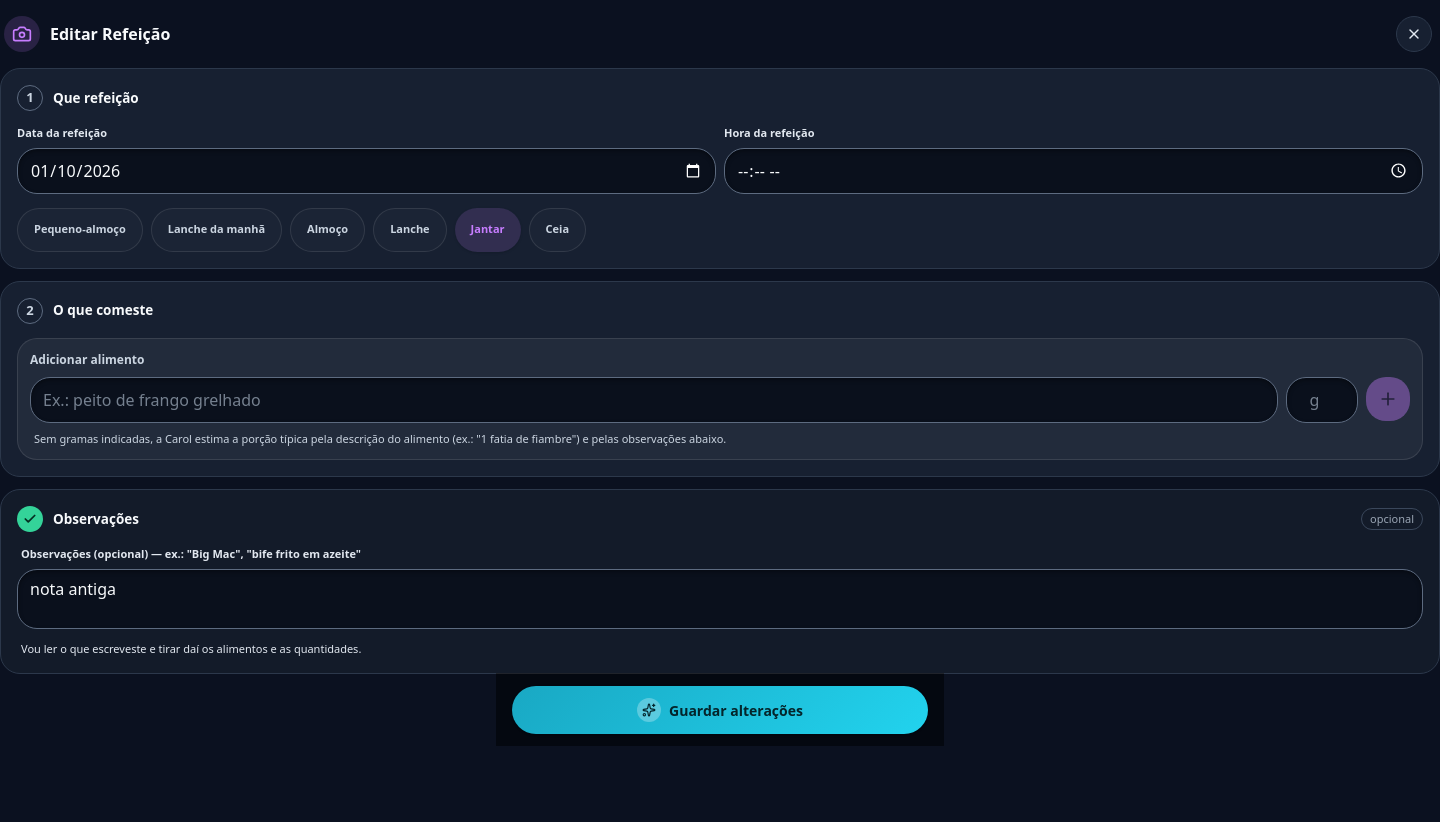
it: MealRegistration — editar refeição existente › sem alimentos e sem observações continua bloqueado
Clear the text box showing "nota antiga" at (720, 599), box [17,568,1423,629]
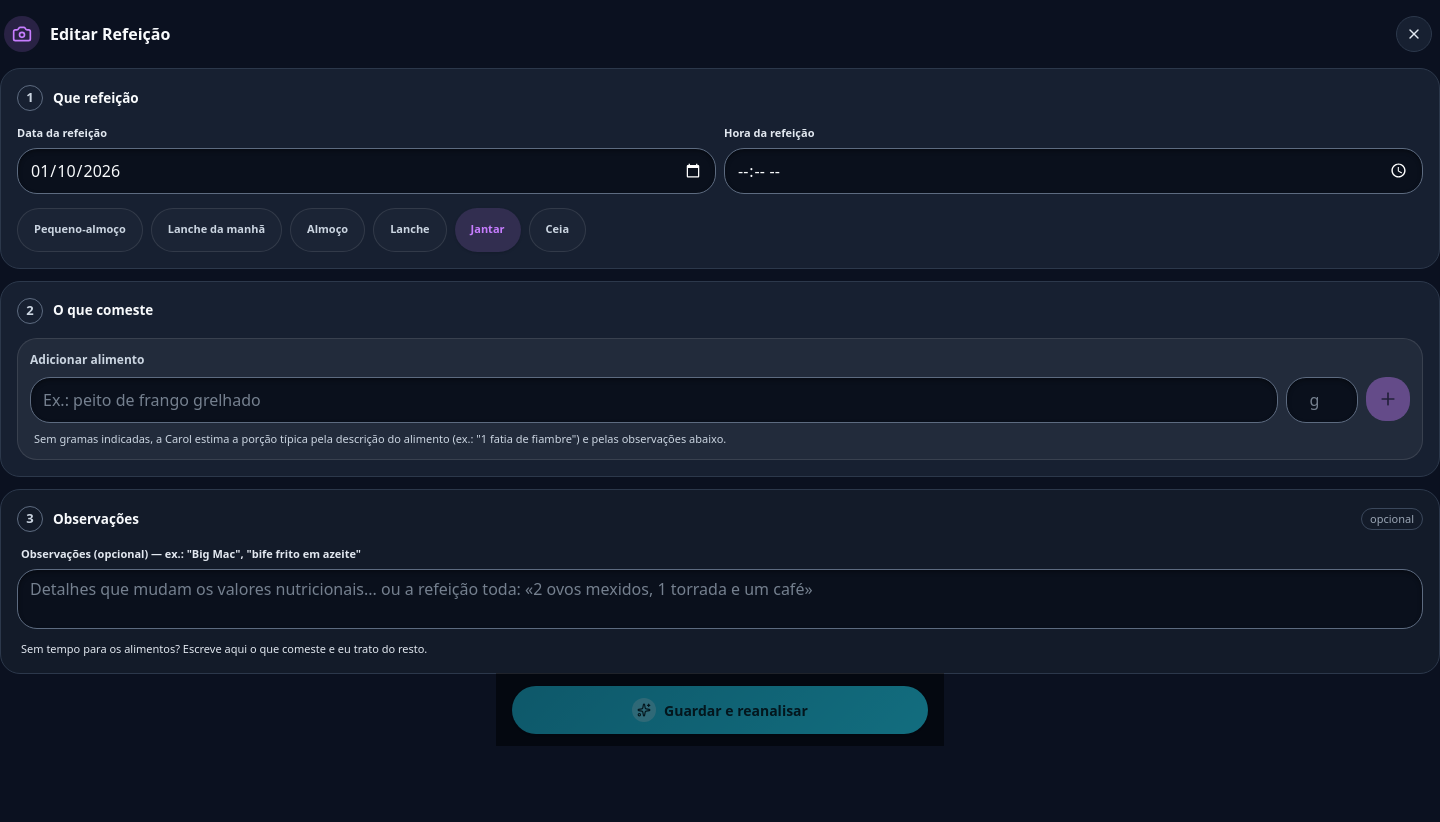
Now the button "Guardar e reanalisar" is disabled, box [512,686,928,734]
